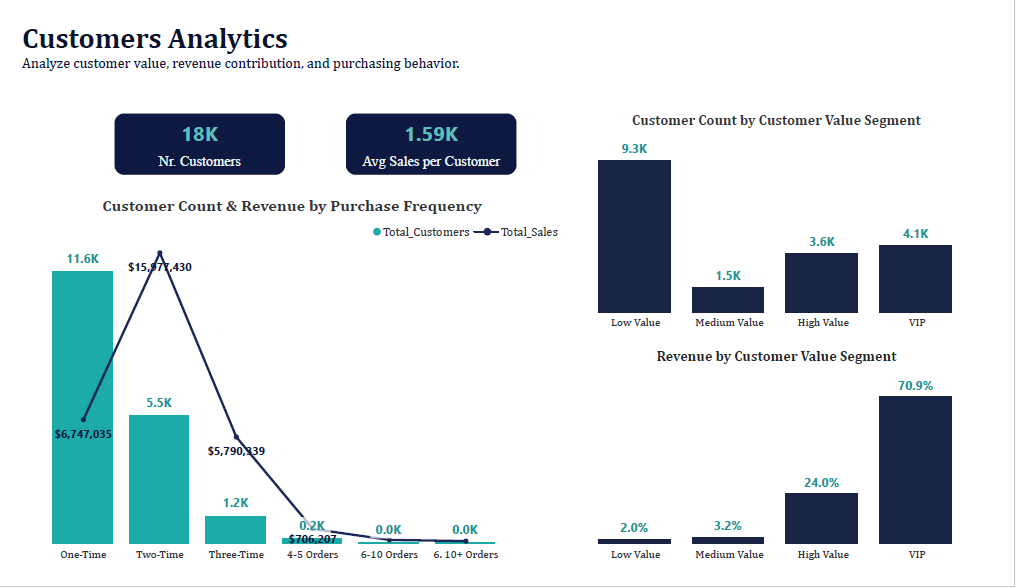

Layout of this report page (visuals, bound fields, positions):
{"tool":"powerbi","page":{"name":"Customer Analytics","canvas":[1280,720],"ordinal":2},"visuals":[{"type":"cardVisual","fields":{"Data":["Created_measures.Total_Customers"]},"box":[108.9,109.3,257.5,113.3],"z":0},{"type":"textbox","box":[0,0,583.3,95],"z":1000},{"type":"cardVisual","fields":{"Data":["Created_measures.Avg_Sales_per_Customer"]},"box":[412,109.3,257.5,113.3],"z":2000},{"type":"clusteredColumnChart","title":"Customer Count by Customer Value Segment","fields":{"Y":["CountNonNull(gold dim_customers.customer_key)"],"Category":["gold dim_customers.Customer_segments"]},"box":[705.3,123.4,574.5,293.9],"z":3000},{"type":"clusteredColumnChart","title":"Revenue by Customer Value Segment","fields":{"Y":["Created_measures.Revenue Share %"],"Category":["gold dim_customers.Customer_segments"]},"box":[705.3,432,574.5,288],"z":4000},{"type":"lineClusteredColumnComboChart","title":"Customer Count & Revenue by Purchase Frequency","fields":{"Category":["gold dim_customers.Purchase Frequency Segment"],"Y2":["Created_measures.Total_Sales"],"Y":["Created_measures.Total_Customers"]},"box":[0,233.6,717.1,486.4],"z":5000}]}

Visuals, with their boxes in screenshot pixels (x1, y1, x2, y2), scaled from the page's 1280x720 canvas onto the 1016x588 screenshot:
cardVisual - Created_measures.Total_Customers: select_region(86, 89, 291, 182)
textbox: select_region(0, 0, 463, 78)
cardVisual - Created_measures.Avg_Sales_per_Customer: select_region(327, 89, 531, 182)
"Customer Count by Customer Value Segment" clusteredColumnChart: select_region(560, 101, 1015, 341)
"Revenue by Customer Value Segment" clusteredColumnChart: select_region(560, 353, 1015, 587)
"Customer Count & Revenue by Purchase Frequency" lineClusteredColumnComboChart: select_region(0, 191, 569, 587)
